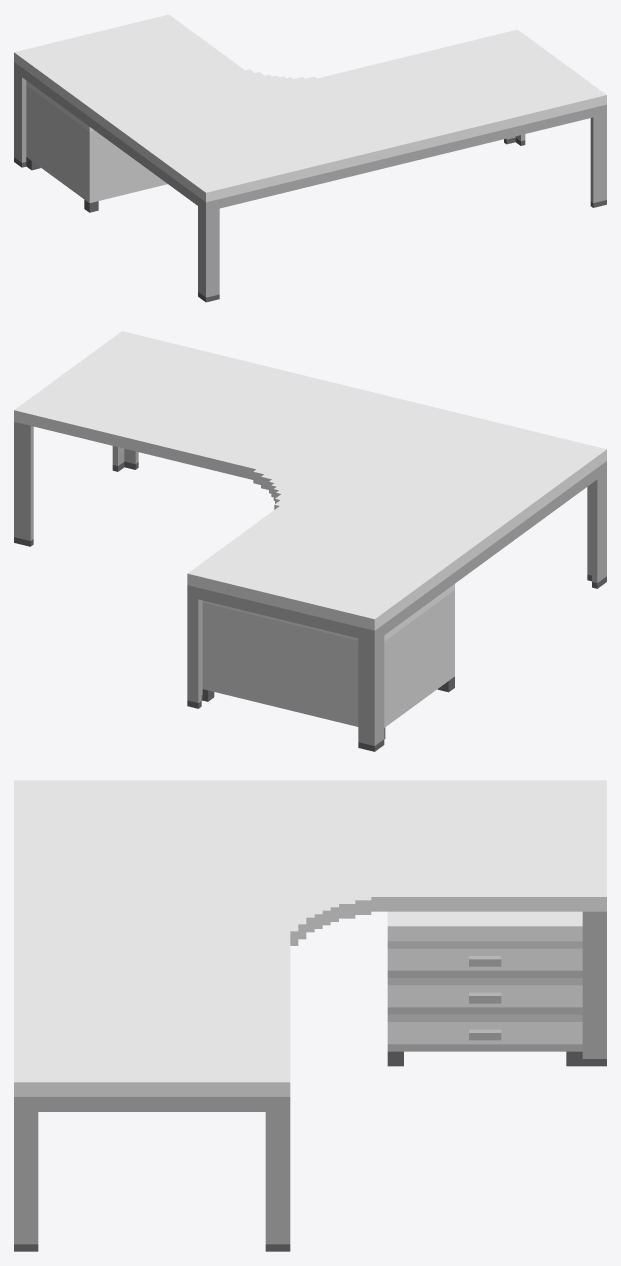
The model's file is Desk4-2.fbx.
3 renders of one model, top to bottom at view 1: azimuth 30°, elevation 25°; view 2: azimuth 150°, elevation 25°; view 3: azimuth 270°, elevation 25°, orthographic. The views are drawn at different scales.
Visible parts, largest first — view 1: Desk4-2.001; view 2: Desk4-2.001; view 3: Desk4-2.001.
Part boxes in pixels (<box>): Desk4-2.001: <box>14,14,606,302</box>; Desk4-2.001: <box>14,331,606,751</box>; Desk4-2.001: <box>14,780,606,1251</box>.
Bounding box in the file's own units: 8.8 × 2.3 × 7.3.
